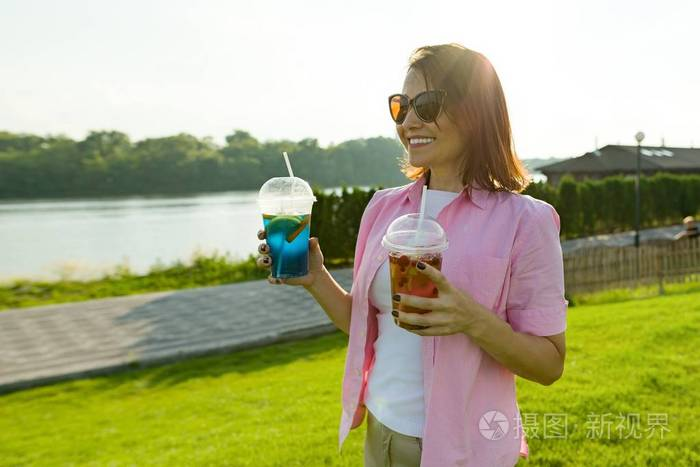no-phone: (377, 192, 477, 340), (253, 182, 332, 290)
